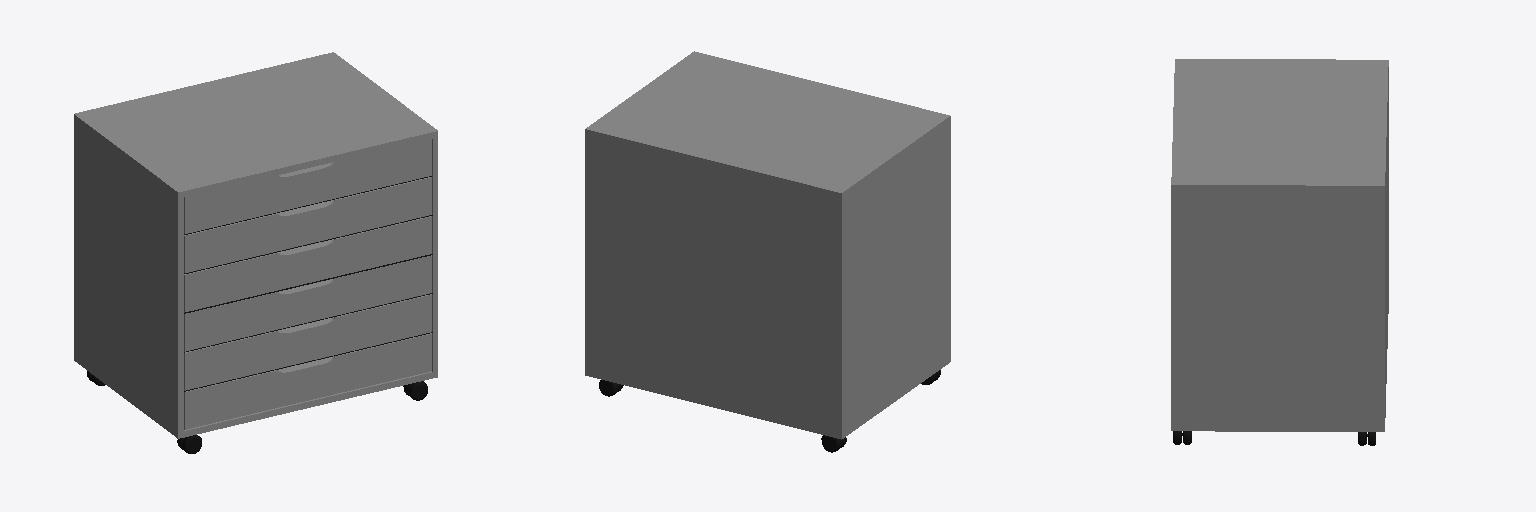
The model's file is drawer.obj.
3 renders of one model, left to right at view 1: azimuth 30°, elevation 25°; view 2: azimuth 150°, elevation 25°; view 3: azimuth 270°, elevation 25°, orthographic.
Parts seen in each view (by area): view 1: Object05, Rectangle06; view 2: Object05; view 3: Object05.
Part boxes in pixels (bbox=[...]): Object05: bbox=[74, 52, 437, 453]; Rectangle06: bbox=[184, 139, 431, 429]; Object05: bbox=[585, 51, 950, 452]; Object05: bbox=[1171, 59, 1388, 445].
Bounding box in the file's own units: 67.58 × 66.23 × 48.81.